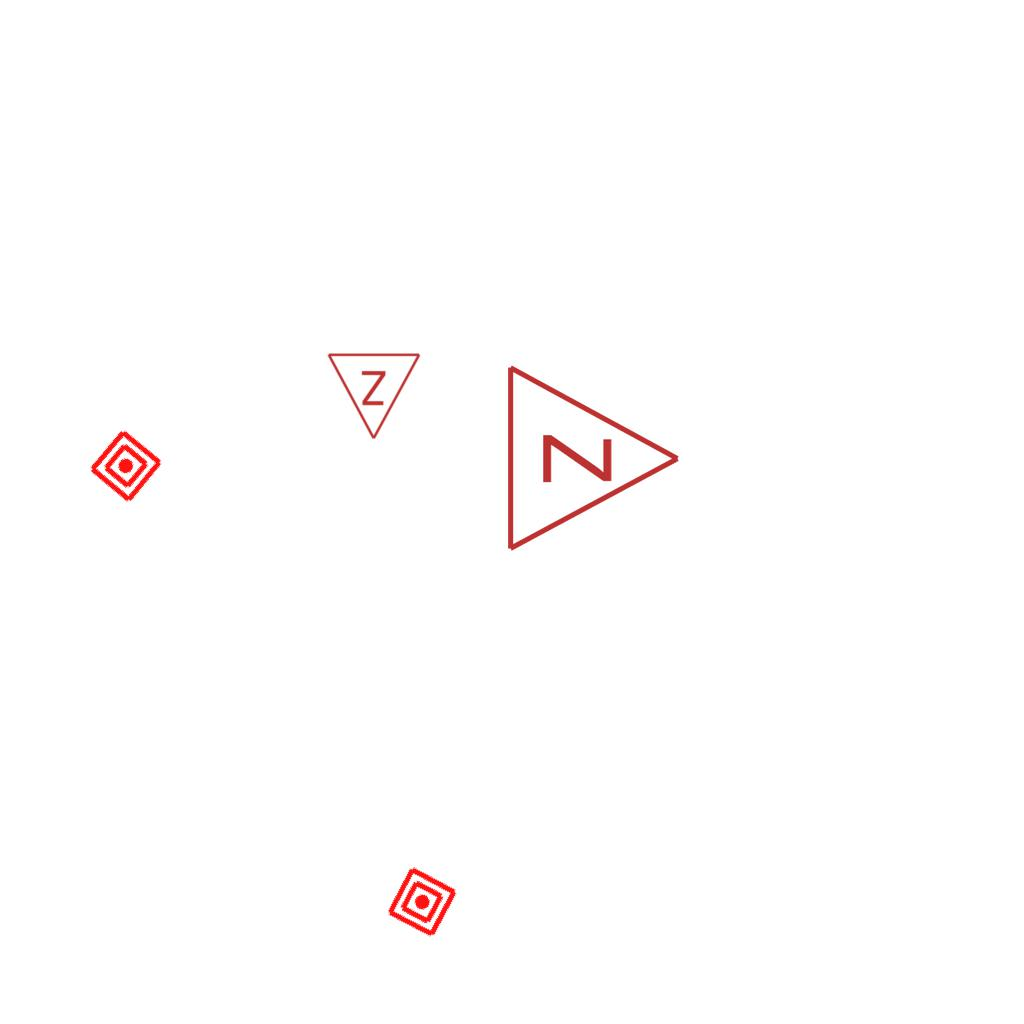NAM-Nichtautomatischer_Melder: (86, 426, 166, 506), (384, 864, 460, 940)
Zimmersignalleuchte: (493, 358, 693, 554), (326, 346, 424, 446)
